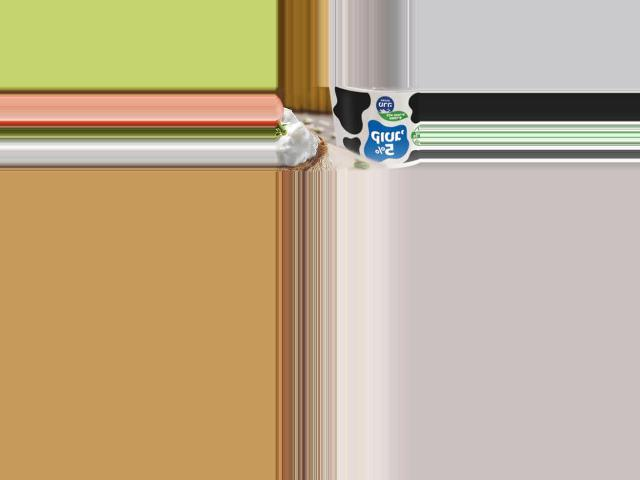cotage: (334, 86, 419, 166)
